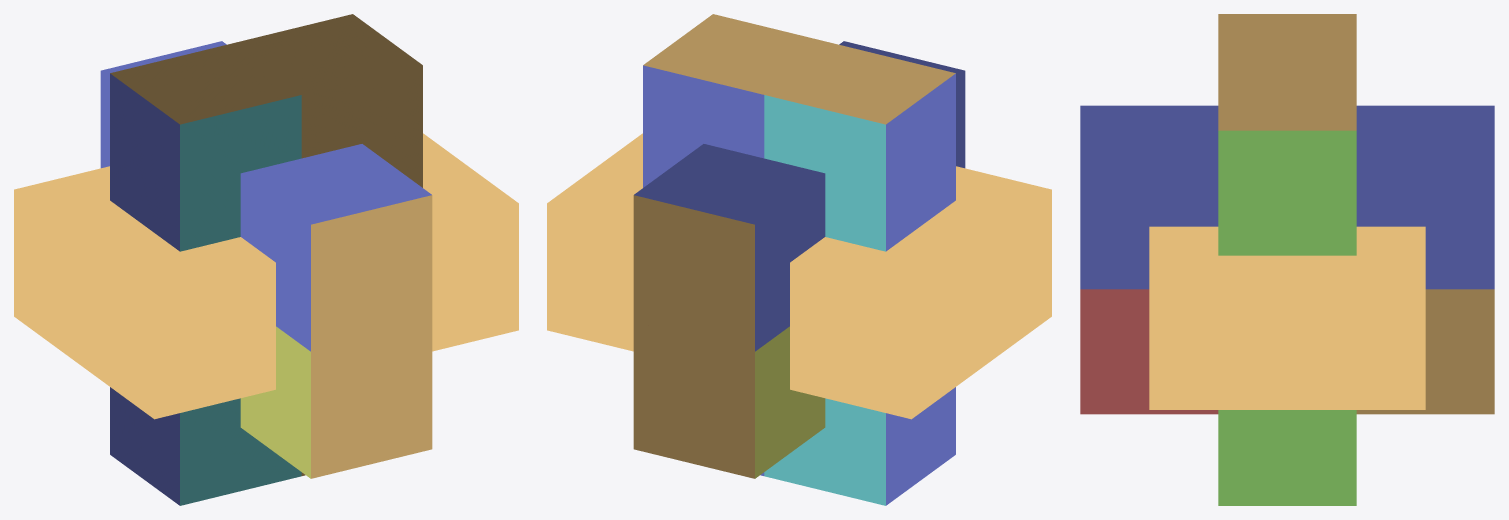
3 views of the same model, side by side, from view 1: azimuth 30°, elevation 25°; view 2: azimuth 150°, elevation 25°; view 3: azimuth 270°, elevation 25° (orthographic).
Parts seen in each view (by area): view 1: C_1; view 2: C_1; view 3: C_1.
Boxes of the visible parts, <box> form: C_1: <box>14,14,518,505</box>; C_1: <box>547,14,1051,505</box>; C_1: <box>1080,14,1494,505</box>.
Bounding box in the file's own units: 60 × 60 × 60.
1 material, 1 textured.
